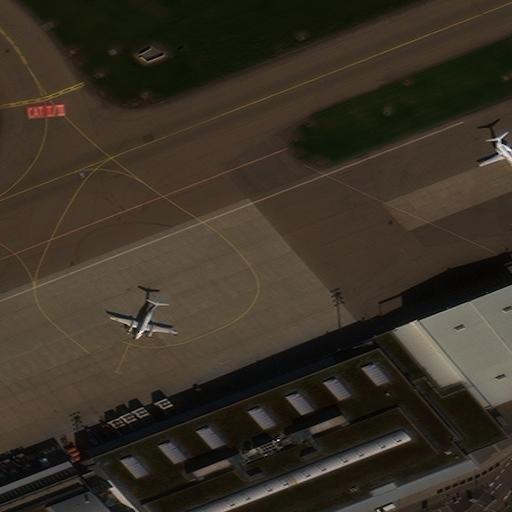Medium Civil Transport: (109, 301, 177, 340), (480, 137, 512, 170)
